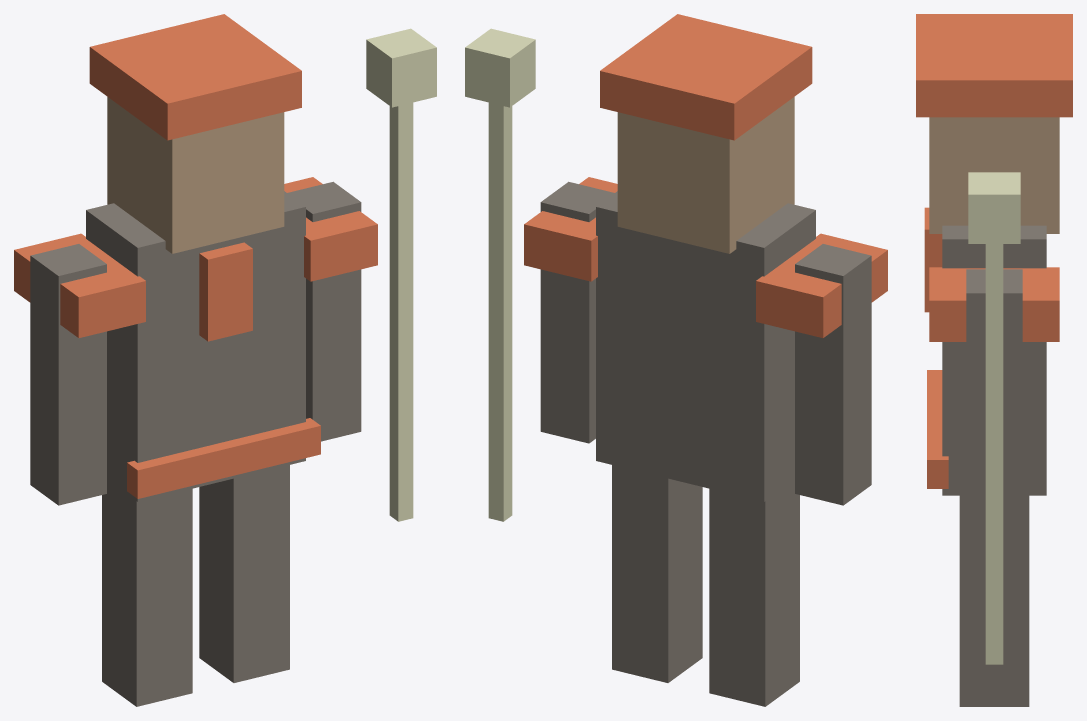
Rendered from 02_asha_voxmere_medic_under_memory.glb.
3 renders of one model, left to right at view 1: azimuth 30°, elevation 25°; view 2: azimuth 150°, elevation 25°; view 3: azimuth 270°, elevation 25°, orthographic.
Visible parts, largest first — view 1: Asha Voxmere, Medic under Memory; view 2: Asha Voxmere, Medic under Memory; view 3: Asha Voxmere, Medic under Memory.
Boxes of the visible parts, bbox=[...] form: Asha Voxmere, Medic under Memory: bbox=[14, 14, 436, 706]; Asha Voxmere, Medic under Memory: bbox=[465, 14, 887, 706]; Asha Voxmere, Medic under Memory: bbox=[916, 14, 1072, 706].
Size of the model in its own units: 0.9617 by 1.49 by 0.3411.
